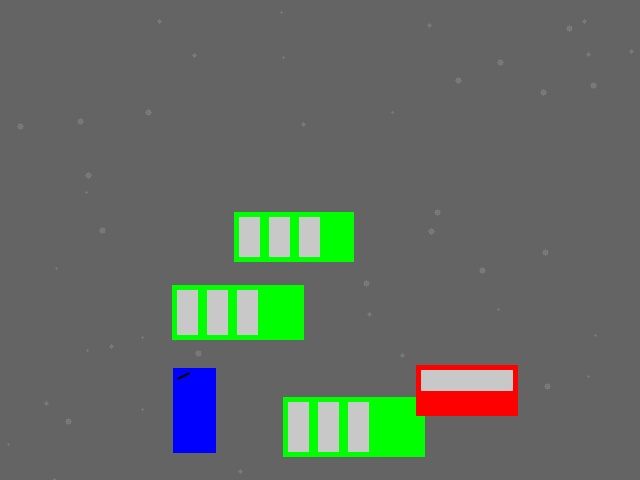bus: (283, 397, 424, 456), (172, 285, 303, 339), (234, 212, 353, 261)
car: (416, 365, 517, 415)
motorcycle: (173, 368, 215, 452)
